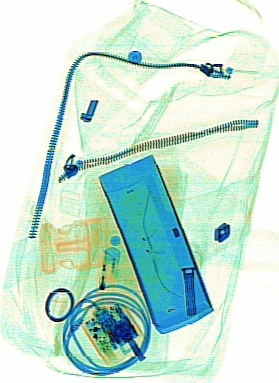lighter: (89, 245, 122, 318)
